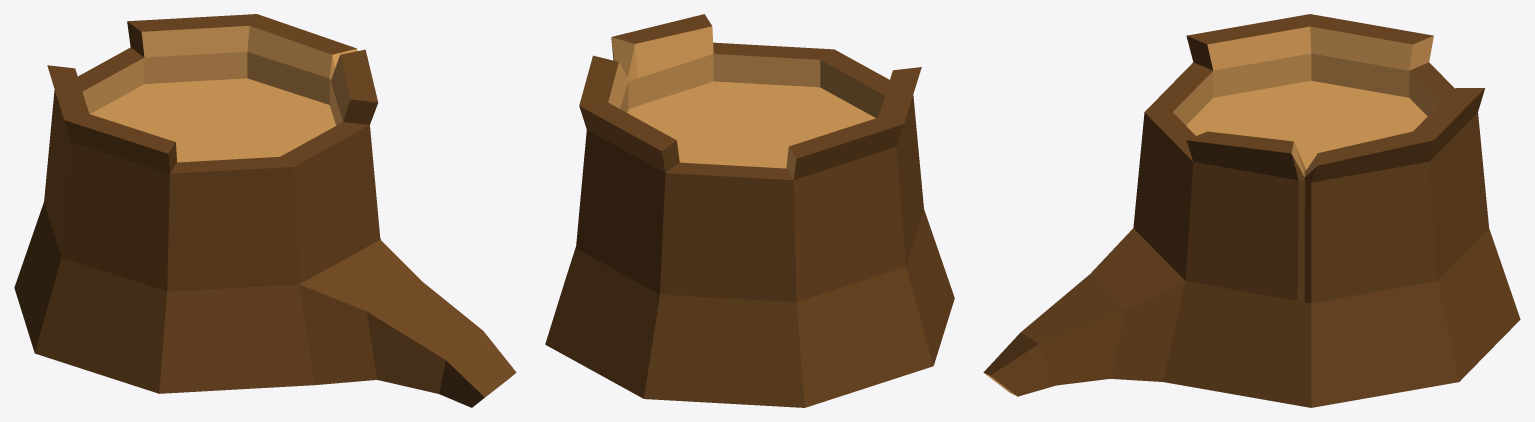
The model's file is TRONCO_.fbx.
The picture shows the model from 3 angles, left to right: view 1: azimuth 30°, elevation 25°; view 2: azimuth 150°, elevation 25°; view 3: azimuth 270°, elevation 25°; orthographic projection. The views are drawn at different scales.
Visible parts, largest first — view 1: Circle; view 2: Circle; view 3: Circle.
Part boxes in pixels (<box>): Circle: <box>14,14,516,407</box>; Circle: <box>545,14,954,407</box>; Circle: <box>983,14,1520,407</box>.
Size of the model in its own units: 302 by 203 by 388.
